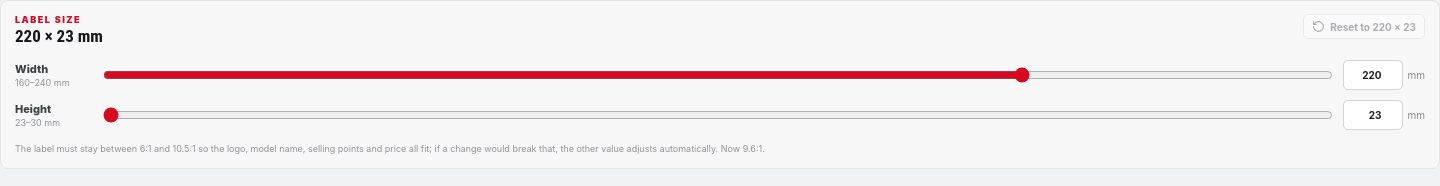
Test: label size controls › applies a typed number that moves nothing else straight away
Replace the text in the number field named "Width in millimetres" with "235" at (1373, 75), box [1343,60,1404,90]
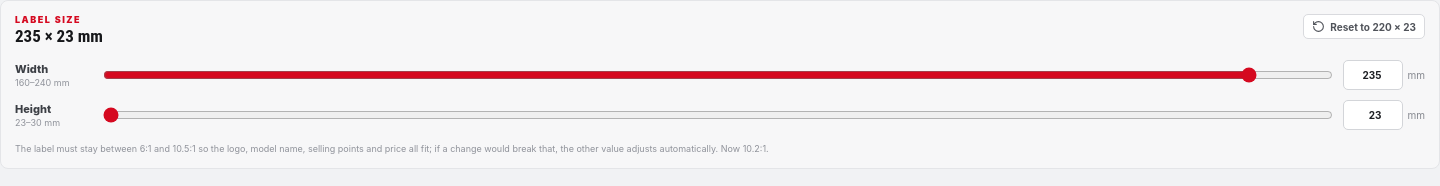
Expected: the slider named "Width slider" holds "235", [103,67,1333,83]
